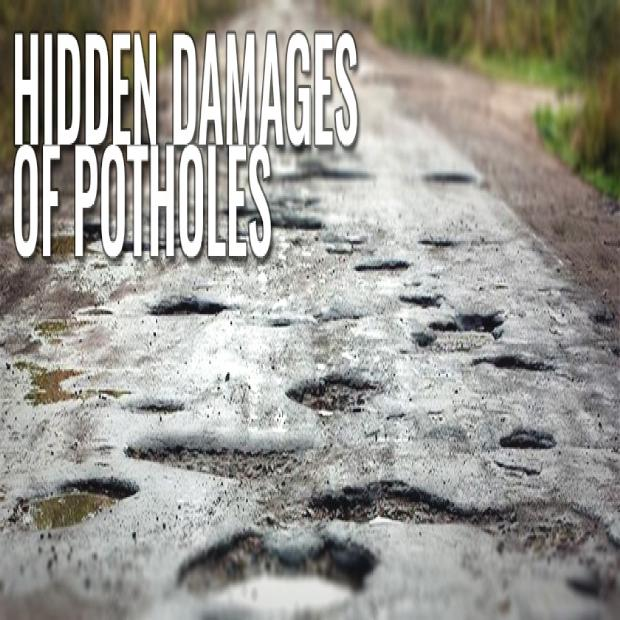lubang: (128, 445, 519, 534), (177, 530, 376, 618), (7, 479, 138, 529), (287, 376, 381, 411), (412, 311, 503, 346), (269, 160, 376, 184), (150, 298, 228, 314), (500, 429, 556, 451), (326, 234, 372, 259), (472, 356, 554, 369), (271, 214, 323, 229), (399, 293, 445, 309), (354, 259, 410, 271), (423, 171, 477, 183), (238, 216, 261, 239), (418, 239, 478, 246)
